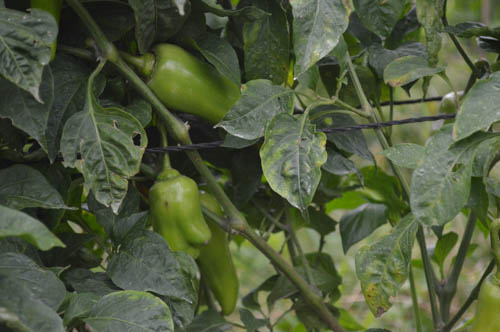ChiliPepper: (145, 43, 242, 124), (193, 192, 241, 315), (148, 176, 209, 268)
